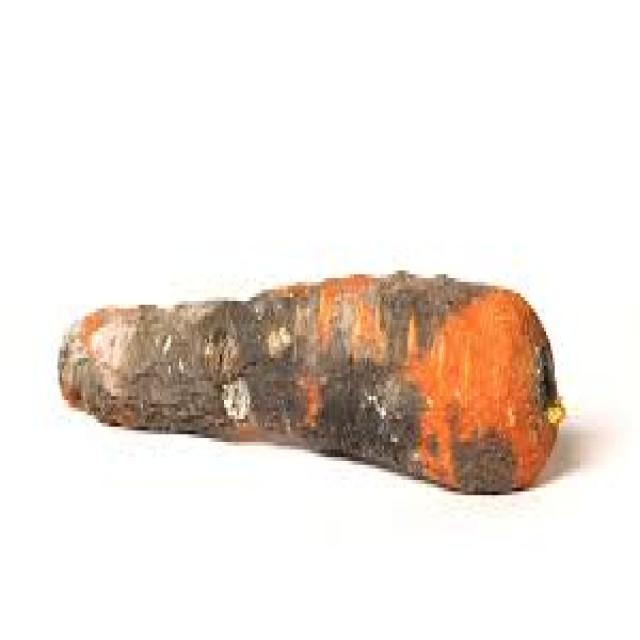Stale_Carrot: (64, 266, 541, 513)
